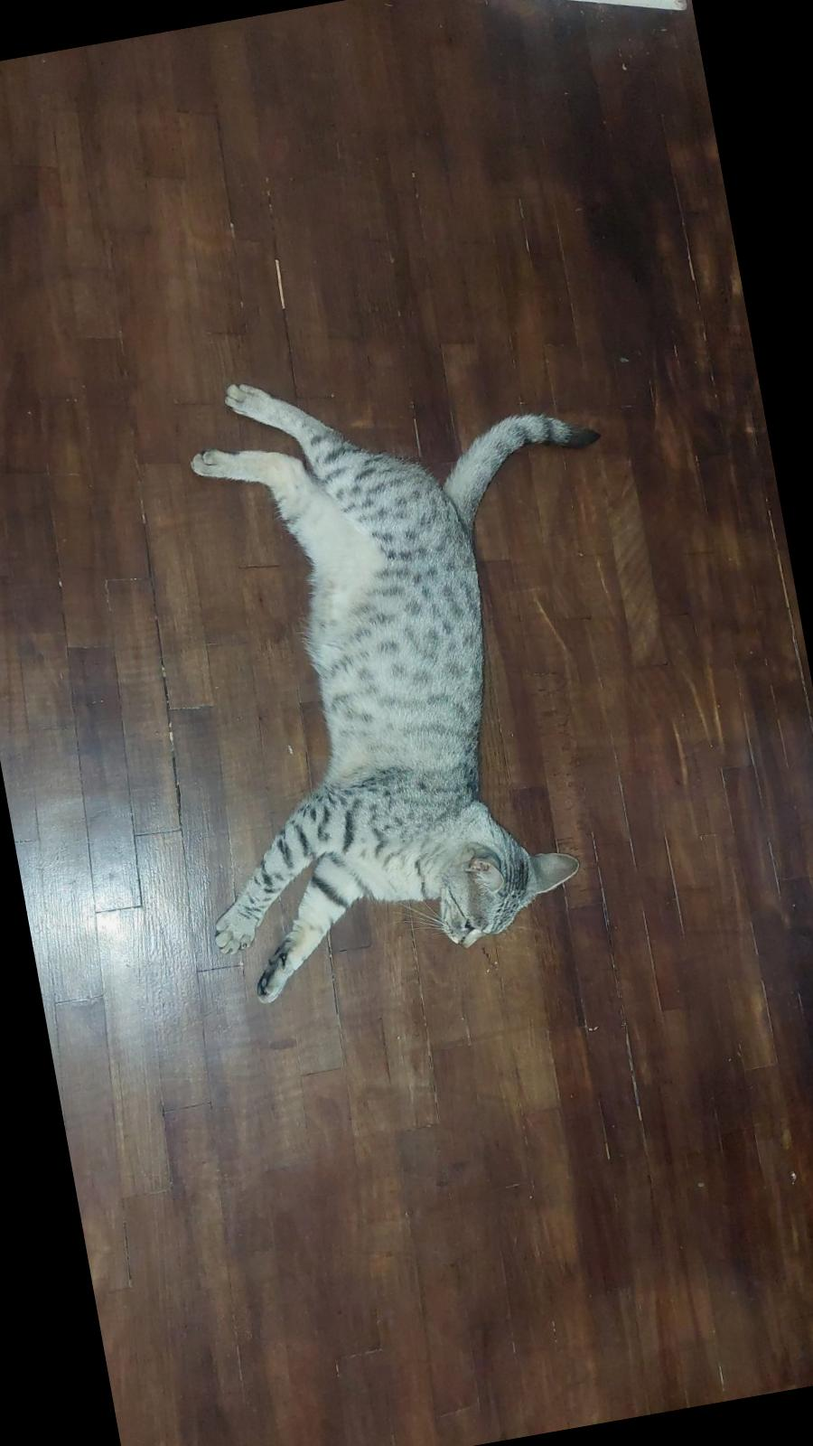macka: (118, 318, 690, 1007)
